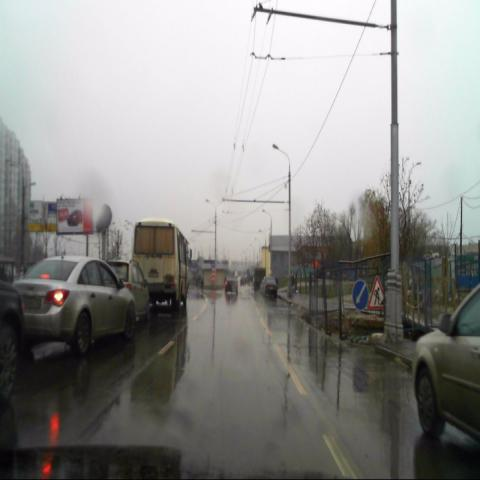1_25: (368, 276, 389, 311)
4_2_2: (352, 280, 368, 310)
